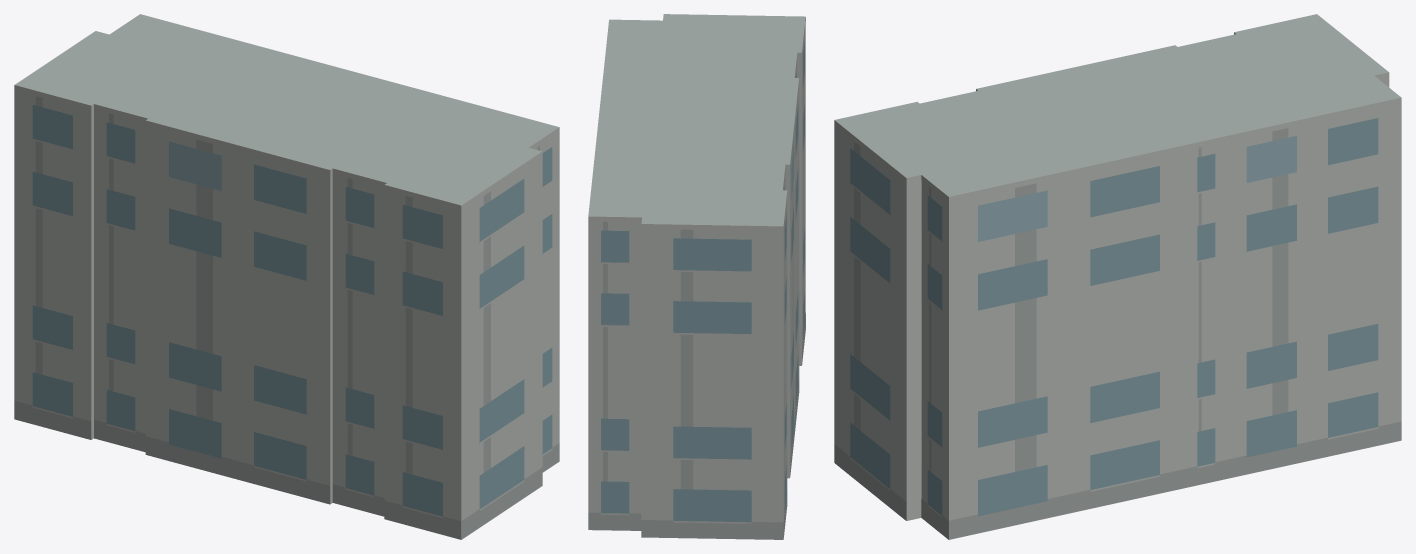
File: survey-upis-32920959.glb
The picture shows the model from 3 angles, left to right: view 1: azimuth 30°, elevation 25°; view 2: azimuth 150°, elevation 25°; view 3: azimuth 270°, elevation 25°; orthographic projection. The views are drawn at different scales.
Parts seen in each view (by area): view 1: survey-upis-32920959.tmp; view 2: survey-upis-32920959.tmp; view 3: survey-upis-32920959.tmp.
Part boxes in pixels (left/top/right/bottom): survey-upis-32920959.tmp: left=14, top=14, right=559, bottom=539; survey-upis-32920959.tmp: left=588, top=14, right=805, bottom=539; survey-upis-32920959.tmp: left=834, top=14, right=1401, bottom=539.
Bounding box in the file's own units: 17.4 × 15.2 × 22.79.
